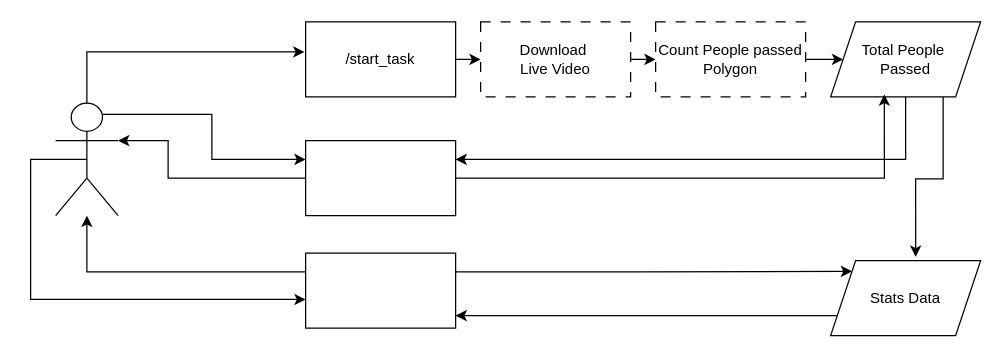
The diagram is 1003 pixels wide and 358 high, and some of its shapes have lost their labels. The shapes that lost their labels are listed below. From the top down, each one's centre as x and y in pixels, then its label:
point (86, 159): Actor
point (380, 177): /get_result
point (380, 290): /get_stats
